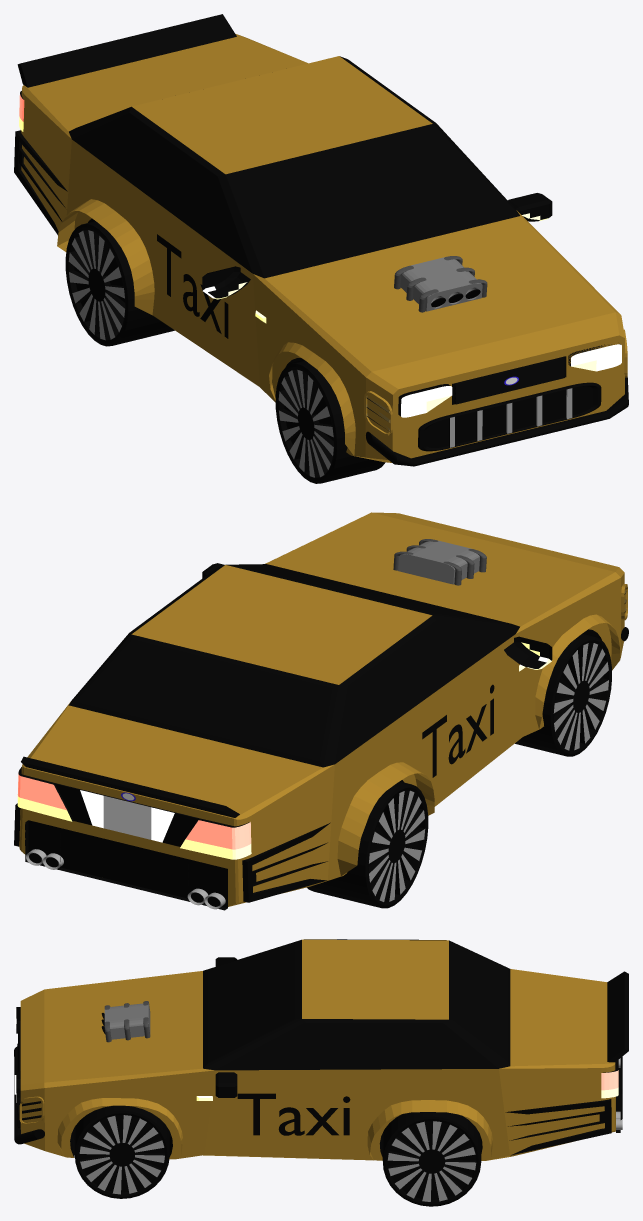
Rendered from taxi_body.glb.
3 renders of one model, top to bottom at view 1: azimuth 30°, elevation 25°; view 2: azimuth 150°, elevation 25°; view 3: azimuth 270°, elevation 25°, orthographic. The views are drawn at different scales.
Visible parts, largest first — view 1: Taxi, Back_R, Front_R; view 2: Taxi, Back_R, Front_R; view 3: Taxi, Back_L, Front_L.
Boxes of the visible parts, left/top/right/bottom form: Taxi: left=14, top=14, right=628, bottom=466; Back_R: left=65, top=221, right=174, bottom=346; Front_R: left=275, top=360, right=385, bottom=483; Taxi: left=14, top=512, right=628, bottom=910; Back_R: left=307, top=781, right=428, bottom=908; Front_R: left=515, top=633, right=611, bottom=756; Taxi: left=14, top=939, right=628, bottom=1160; Back_L: left=382, top=1112, right=481, bottom=1206; Front_L: left=74, top=1105, right=169, bottom=1198.
Bounding box in the file's own units: 2.99 × 1.82 × 5.98.
